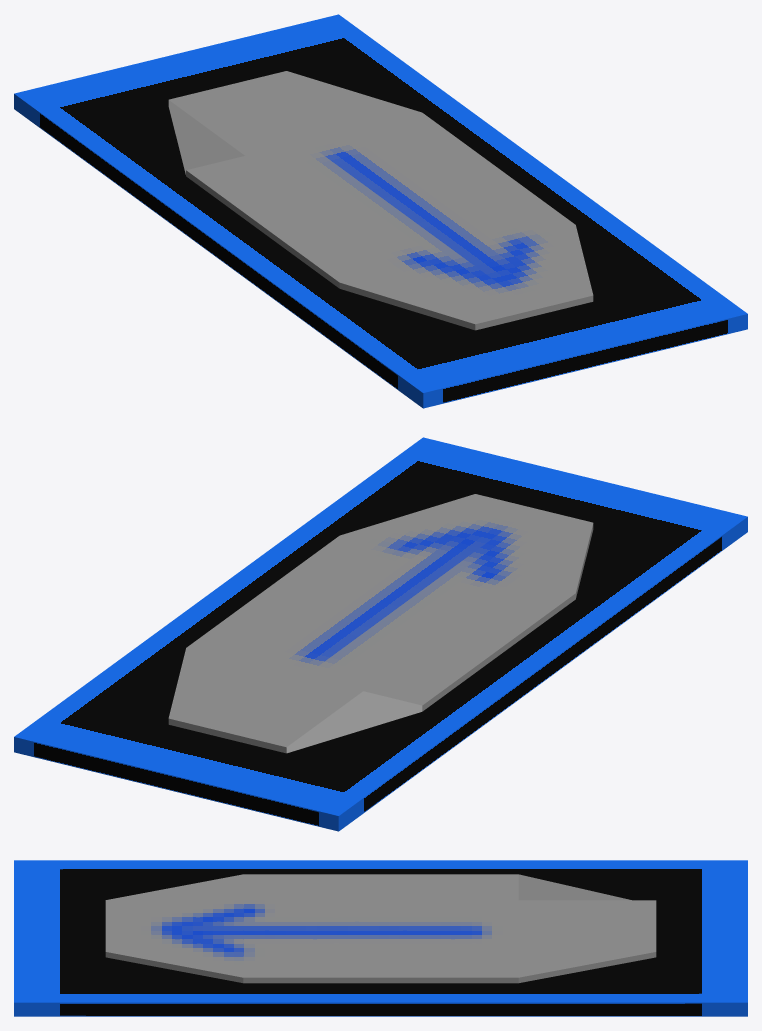
Rendered from jumpBoard.fbx.
The picture shows the model from 3 angles, top to bottom: view 1: azimuth 30°, elevation 25°; view 2: azimuth 150°, elevation 25°; view 3: azimuth 270°, elevation 25°; orthographic projection. The views are drawn at different scales.
Parts seen in each view (by area): view 1: Box001, Box002; view 2: Box001, Box002; view 3: Box001, Box002.
Part boxes in pixels (x1,y1,x2,y2): Box001: (14,14,747,408); Box002: (168,71,593,330); Box001: (14,437,747,831); Box002: (168,494,593,753); Box001: (14,860,747,1016); Box002: (105,874,656,983).
Bounding box in the file's own units: 55 × 3.5 × 120.
Materials: 2 (2 with a texture image).
